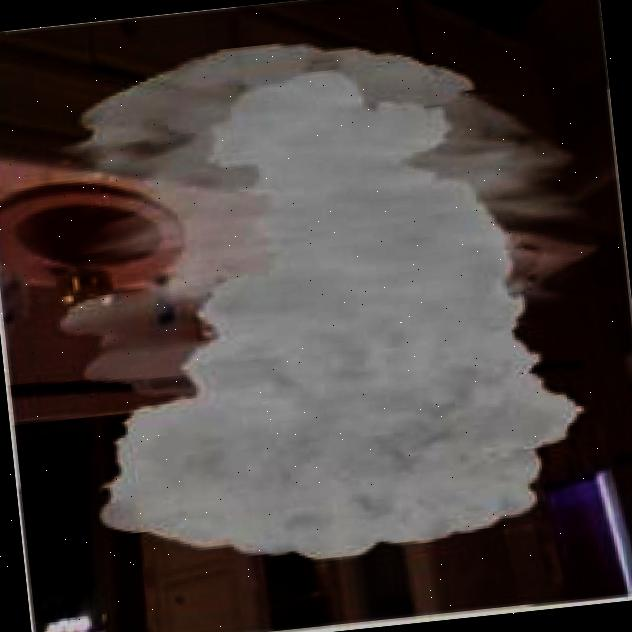smoke: (32, 13, 622, 586)
